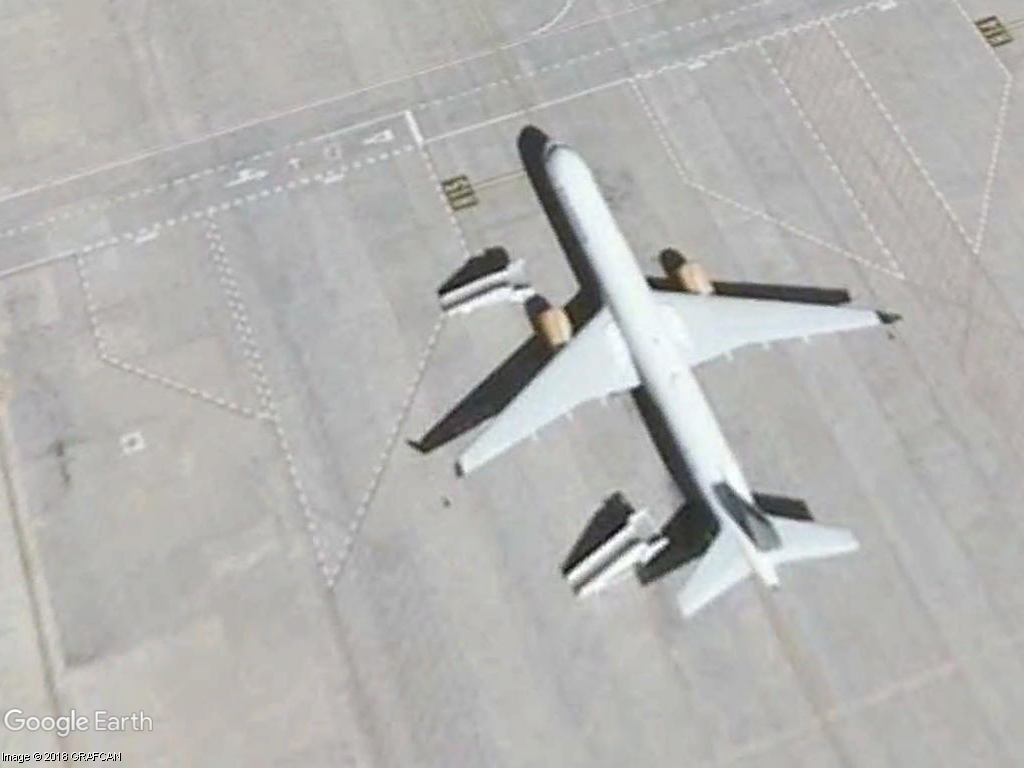airliner: (444, 135, 908, 635)
stairtruck: (557, 500, 670, 598), (434, 262, 542, 320)
